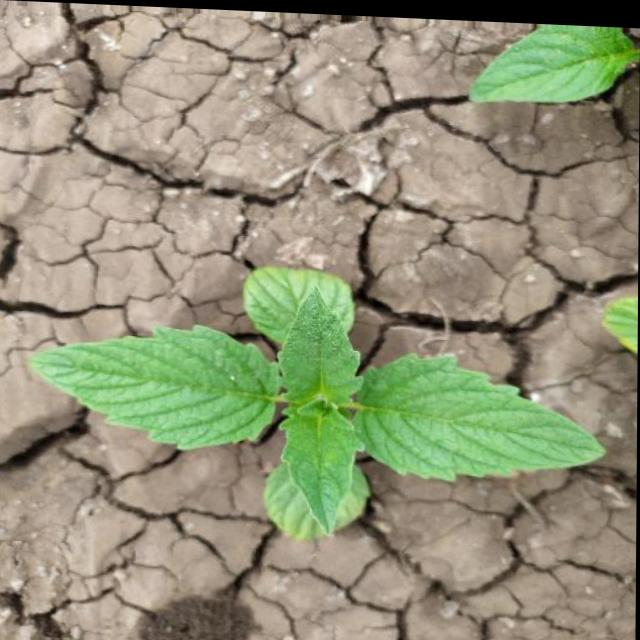crop: (17, 210, 601, 546)
